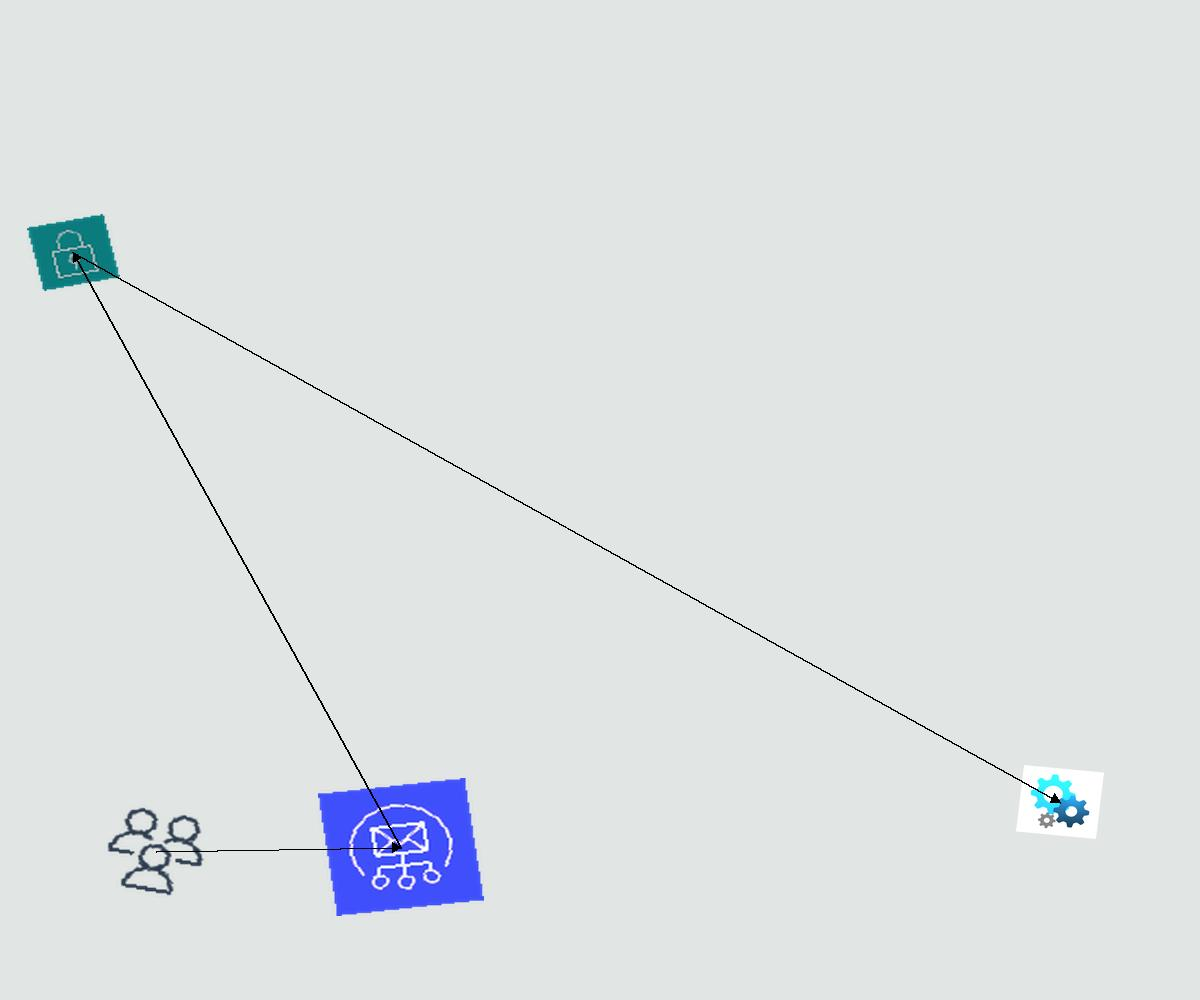AWS-Private-subnet: (27, 214, 120, 291)
AWS-Res_Users: (93, 799, 219, 904)
AWS-Simple-Email-Service: (318, 778, 484, 916)
Azure_api: (1016, 765, 1104, 839)
